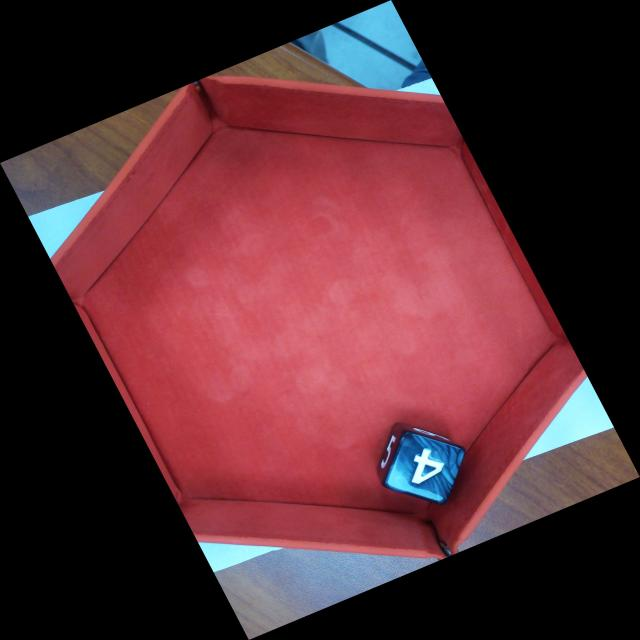dice: (382, 426, 470, 507)
